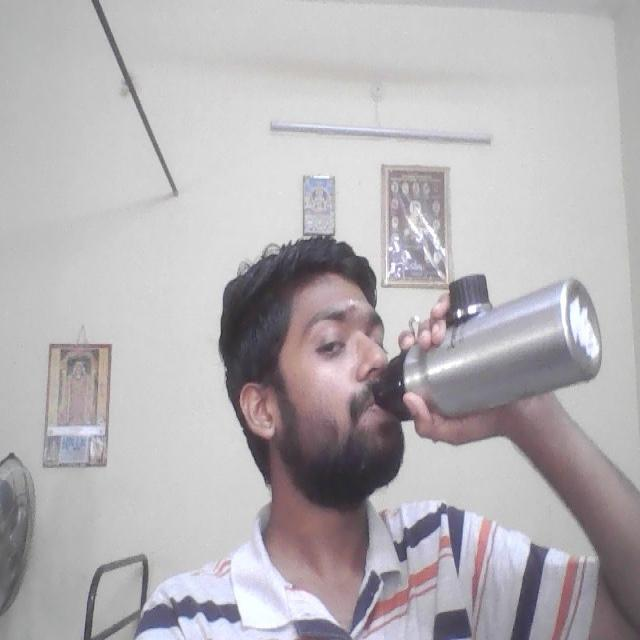Drinking: (364, 266, 609, 413)
